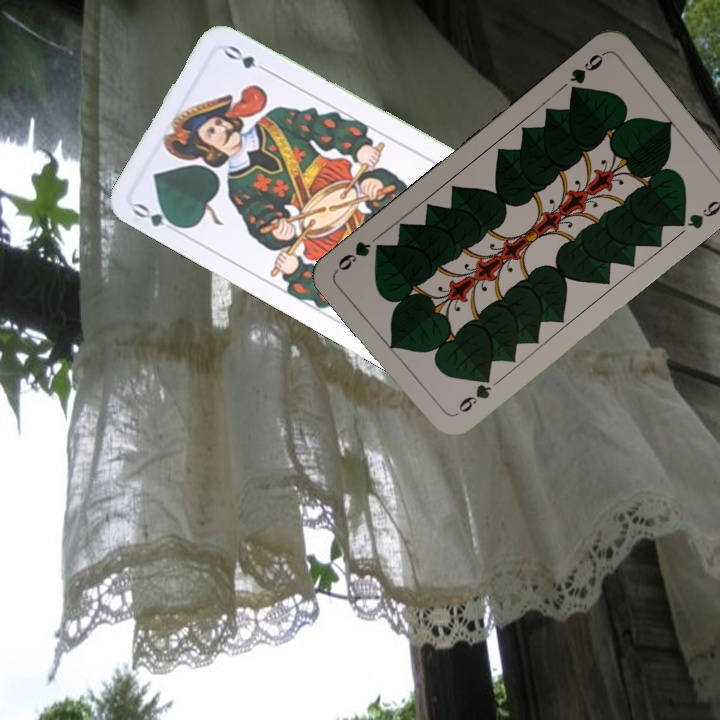G9: (565, 48, 608, 98), (454, 370, 495, 416)
GO: (128, 199, 186, 237)
